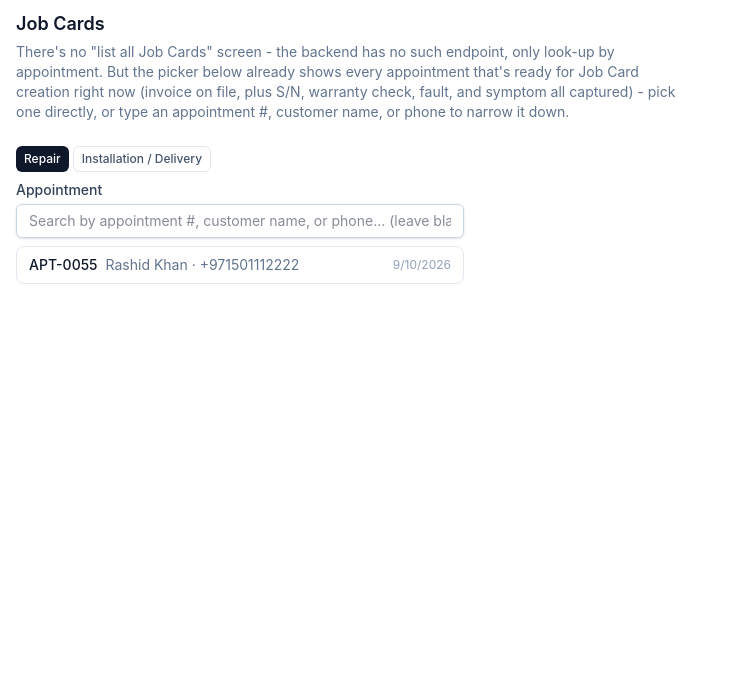
Test case: JobCardsPage - eligible-appointment picker (2026-09-17) › selecting an eligible appointment loads its job card
This screenshot has width=737, height=678.
Click the text "APT-0055" at (63, 264), box [29,256,98,273]
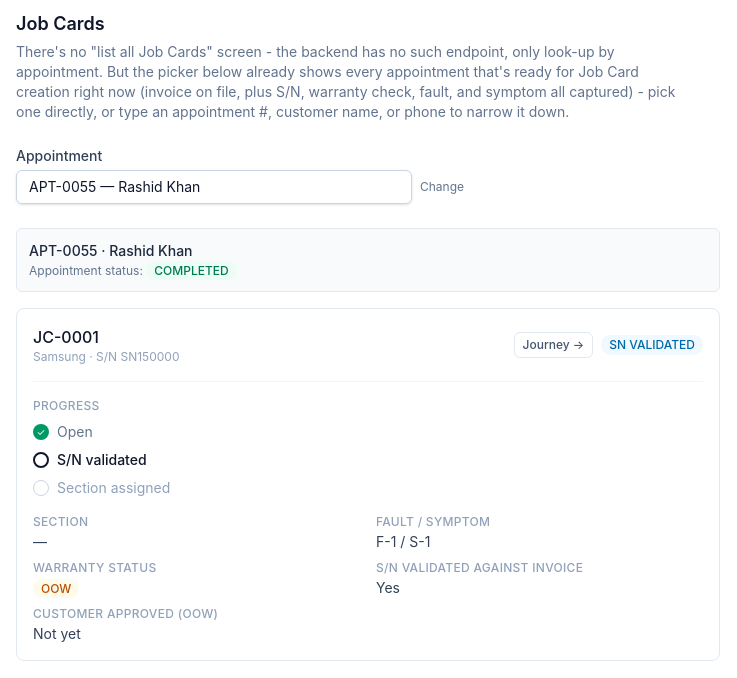
Expected: the text "APT-0055 — Rashid Khan" is shown, [16,170,412,204]
Expected: the field with test id "eligible-appointment-search-input" is gone
